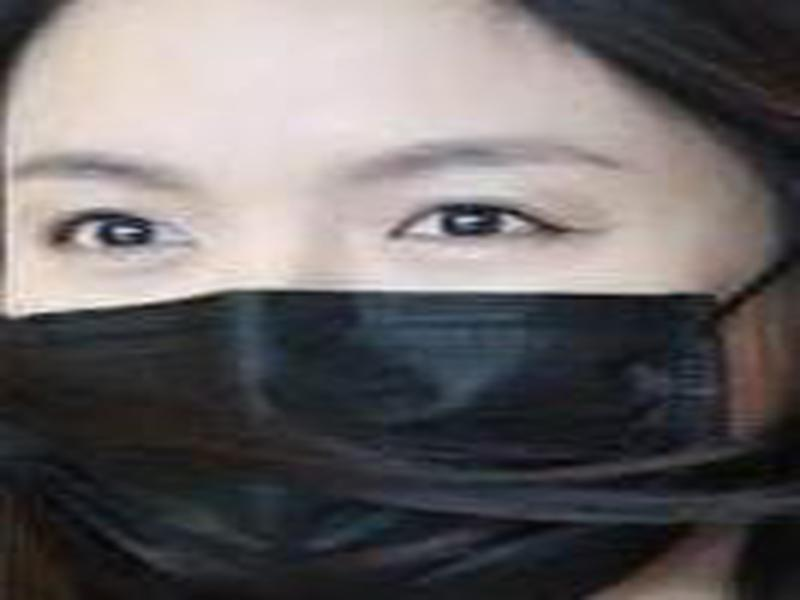with_mask: (1, 3, 793, 600)
